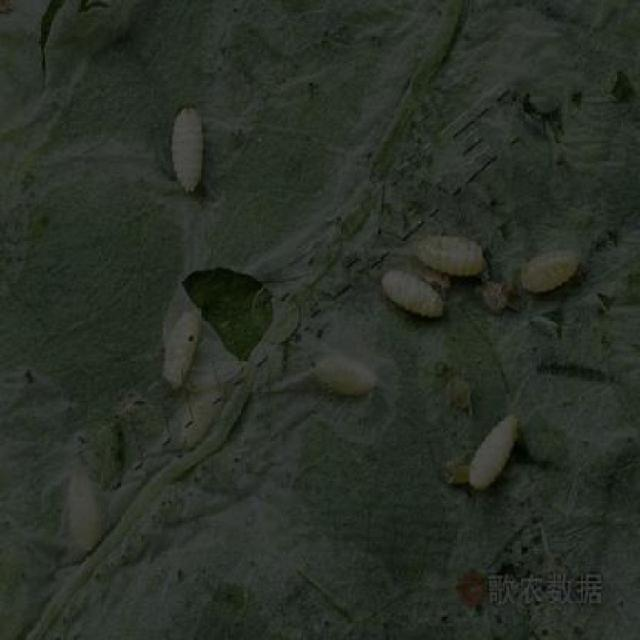whorl-maggot: (466, 401, 522, 494), (515, 238, 588, 300), (166, 96, 212, 193), (378, 262, 449, 324), (415, 228, 487, 282), (311, 348, 377, 402), (68, 469, 103, 554), (165, 313, 201, 390)
